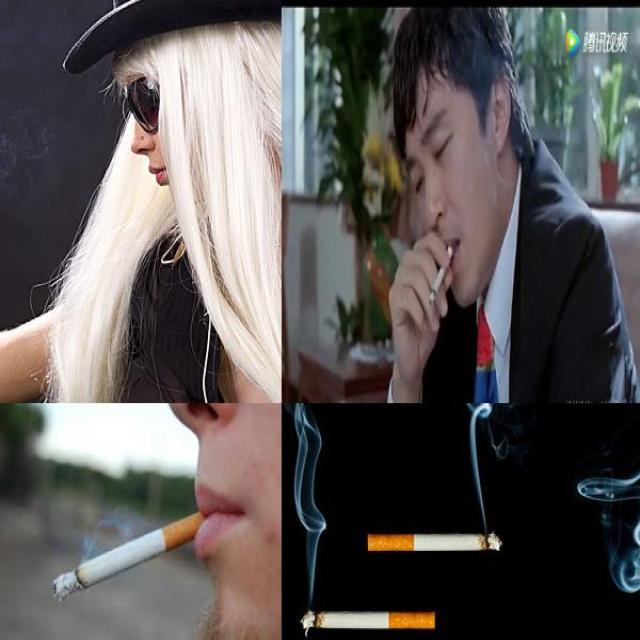smoking: (52, 510, 211, 602), (298, 608, 436, 630), (366, 532, 502, 554), (428, 246, 454, 308)
